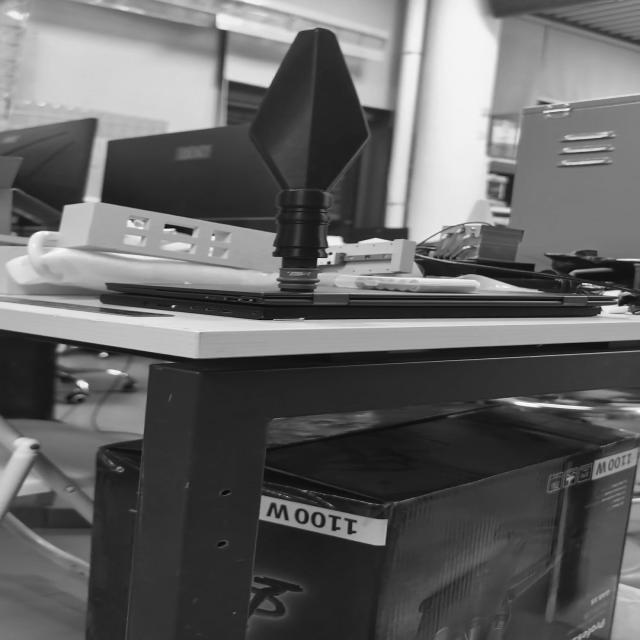base: (273, 264, 323, 294)
